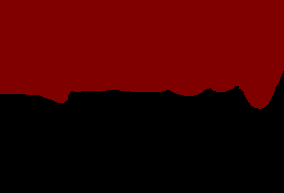Sky: (1, 1, 283, 108)
